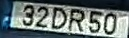0: (103, 12, 117, 36)
2: (34, 5, 48, 28)
3: (22, 3, 35, 27)
5: (88, 10, 102, 34)
D: (50, 6, 67, 29)
R: (67, 7, 85, 32)
